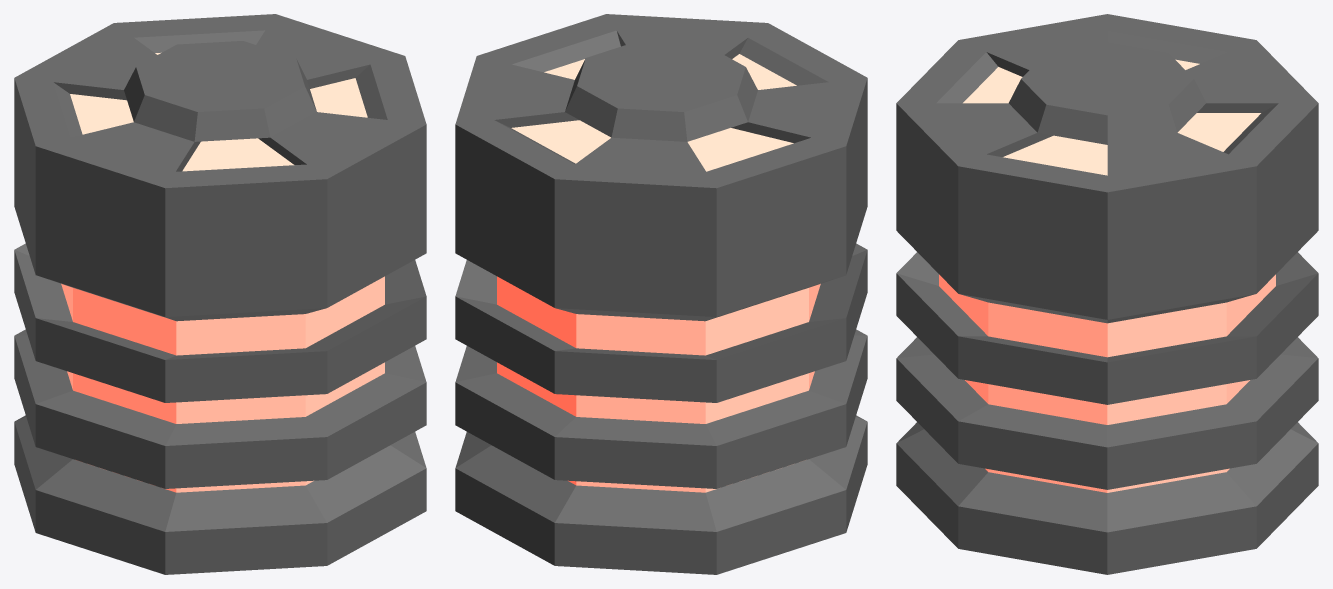
File: TrapDesactivator.fbx
3 views of the same model, side by side, from view 1: azimuth 30°, elevation 25°; view 2: azimuth 150°, elevation 25°; view 3: azimuth 270°, elevation 25° (orthographic).
Visible parts, largest first — view 1: Cylinder; view 2: Cylinder; view 3: Cylinder.
Part boxes in pixels (x1=…): Cylinder: x1=14, y1=14, x2=426, y2=574; Cylinder: x1=455, y1=14, x2=867, y2=574; Cylinder: x1=896, y1=14, x2=1318, y2=574.
Bounding box in the file's own units: 200 × 213 × 200.
